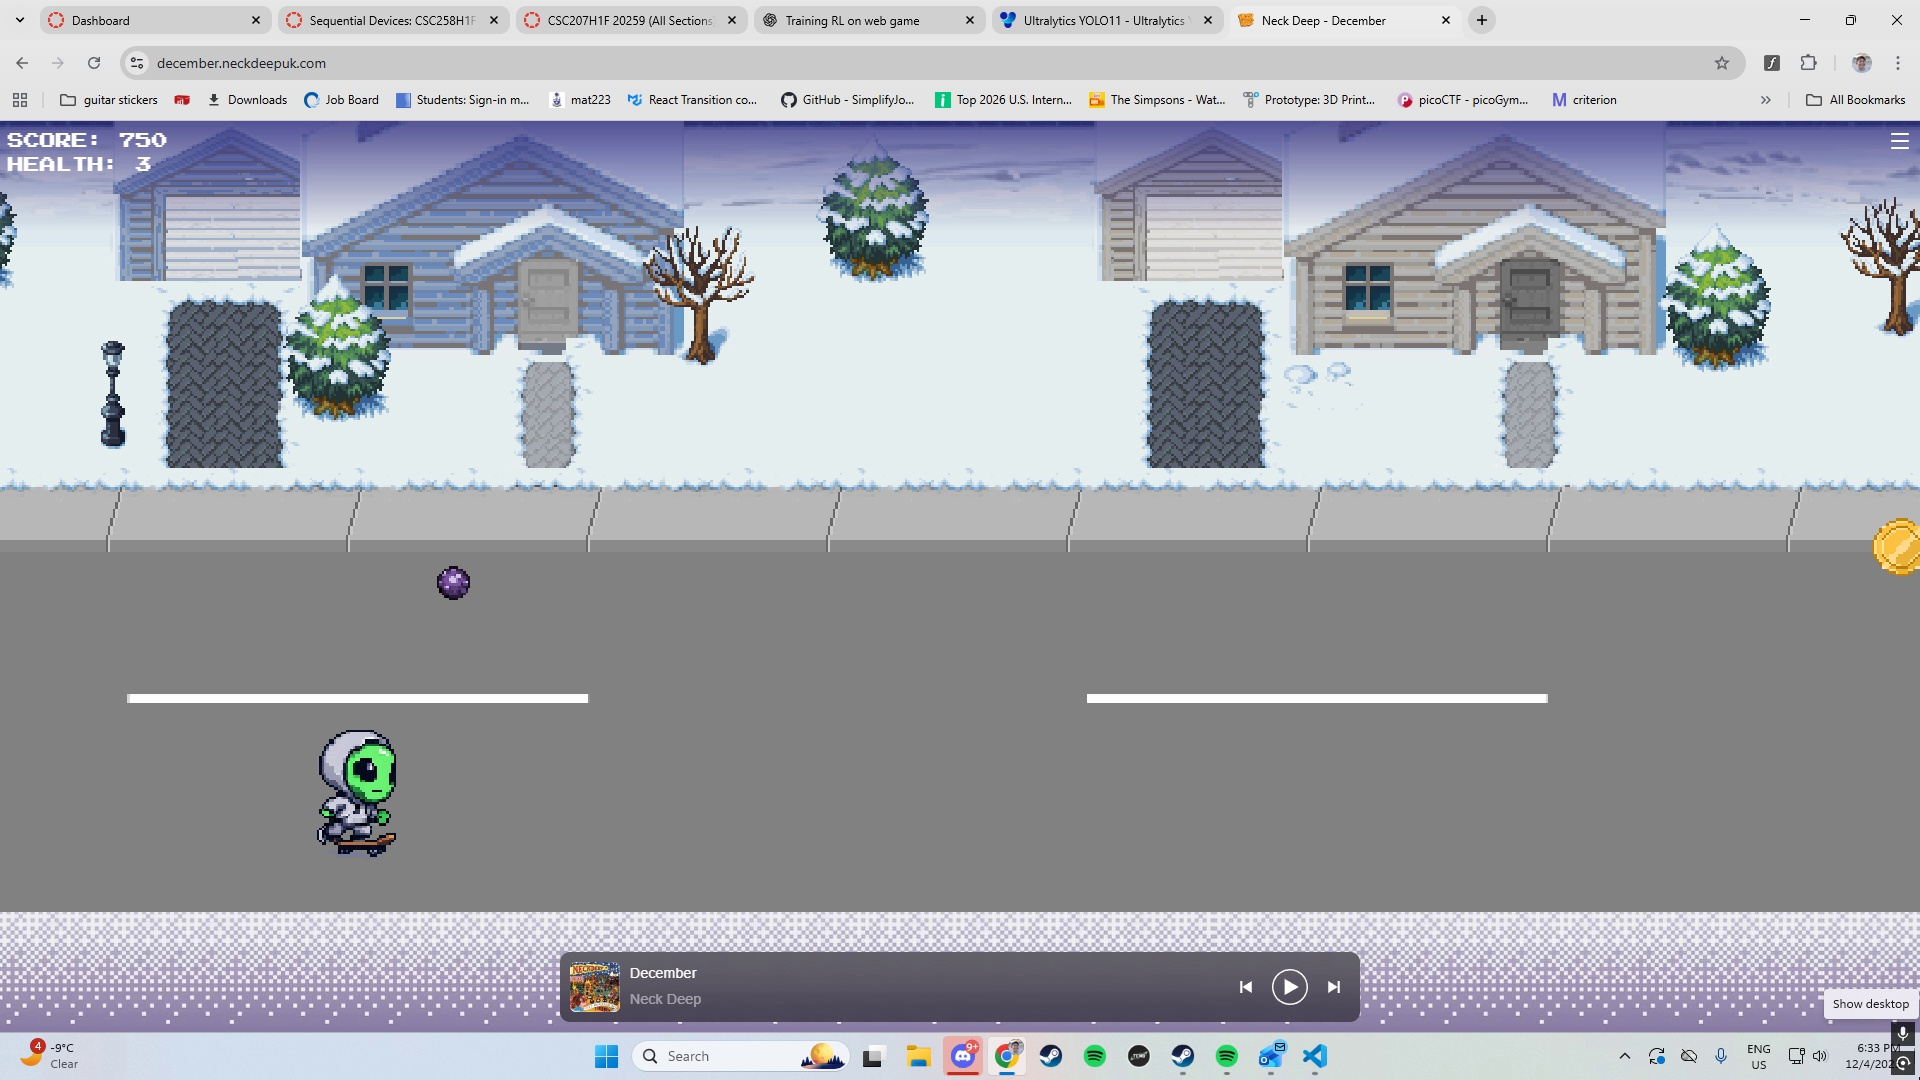Ball: (431, 561, 481, 609)
Coin: (1867, 510, 1920, 581)
Player: (312, 722, 406, 864)
